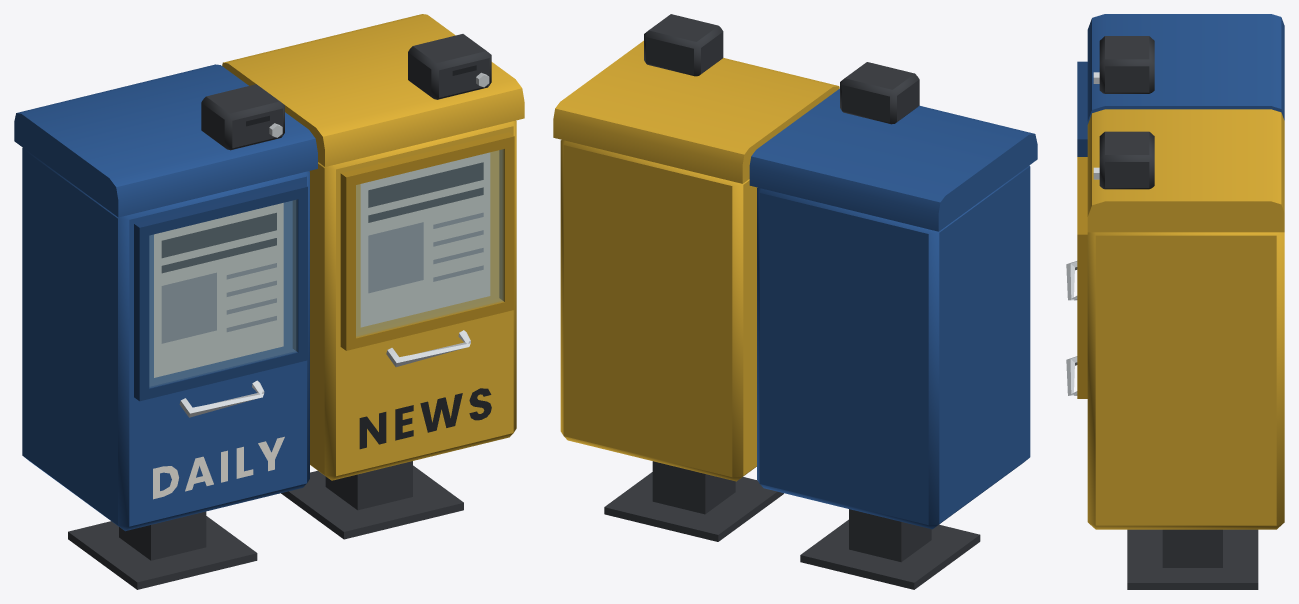
File: Shop_NewspaperBox.fbx
3 renders of one model, left to right at view 1: azimuth 30°, elevation 25°; view 2: azimuth 150°, elevation 25°; view 3: azimuth 270°, elevation 25°, orthographic. The views are drawn at different scales.
Visible parts, largest first — view 1: BoxDaily, BoxNews, Glass, Steel, Paper, FrameNews, FrameDaily, Print, Ink, NameNews, NameDaily, Chrome; view 2: BoxDaily, BoxNews, Steel; view 3: BoxNews, BoxDaily, Steel, FrameNews, FrameDaily, Chrome.
Boxes of the visible parts, x1=… form: BoxDaily: x1=14, y1=64, x2=317, y2=531; BoxNews: x1=222, y1=14, x2=524, y2=480; Glass: x1=149, y1=149, x2=503, y2=387; Steel: x1=68, y1=34, x2=491, y2=589; Paper: x1=154, y1=152, x2=490, y2=377; FrameNews: x1=340, y1=132, x2=514, y2=350; FrameDaily: x1=134, y1=183, x2=307, y2=401; Print: x1=161, y1=213, x2=483, y2=343; Ink: x1=161, y1=65, x2=483, y2=273; NameNews: x1=359, y1=388, x2=491, y2=449; NameDaily: x1=153, y1=436, x2=284, y2=499; Chrome: x1=179, y1=72, x2=489, y2=417; BoxDaily: x1=749, y1=88, x2=1037, y2=529; BoxNews: x1=553, y1=40, x2=839, y2=481; Steel: x1=604, y1=14, x2=980, y2=589; BoxNews: x1=1087, y1=109, x2=1284, y2=529; BoxDaily: x1=1087, y1=14, x2=1284, y2=124; Steel: x1=1099, y1=36, x2=1258, y2=589; FrameNews: x1=1077, y1=157, x2=1087, y2=398; FrameDaily: x1=1077, y1=61, x2=1087, y2=156; Chrome: x1=1066, y1=72, x2=1099, y2=395.
Size of the model in its own units: 338 by 370 by 166.
